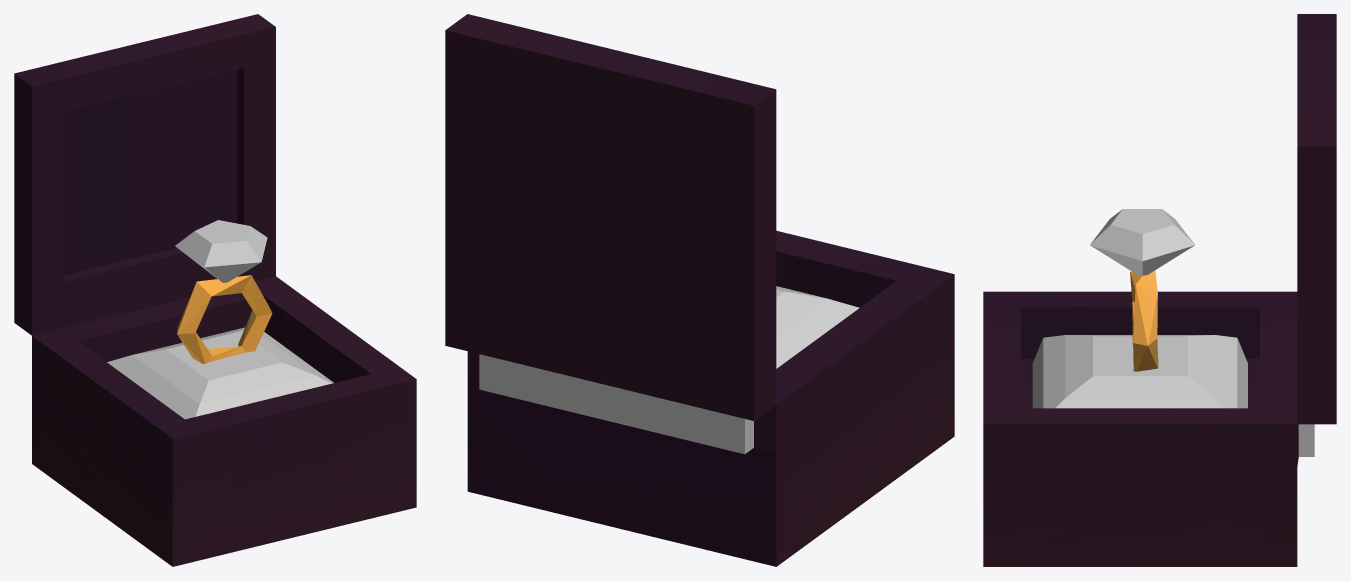
Rendered from Prop_CrueltyFreeSyntheticDiamondRing.fbx.
The picture shows the model from 3 angles, left to right: view 1: azimuth 30°, elevation 25°; view 2: azimuth 150°, elevation 25°; view 3: azimuth 270°, elevation 25°; orthographic projection. The views are drawn at different scales.
Visible parts, largest first — view 1: Cruelty Free Diamond Ring; view 2: Cruelty Free Diamond Ring; view 3: Cruelty Free Diamond Ring.
Part boxes in pixels (x1,y1,x2,y2): Cruelty Free Diamond Ring: (14, 14, 416, 566); Cruelty Free Diamond Ring: (445, 14, 954, 566); Cruelty Free Diamond Ring: (983, 14, 1336, 566).
Bounding box in the file's own units: 10.89 × 16.09 × 12.25.
